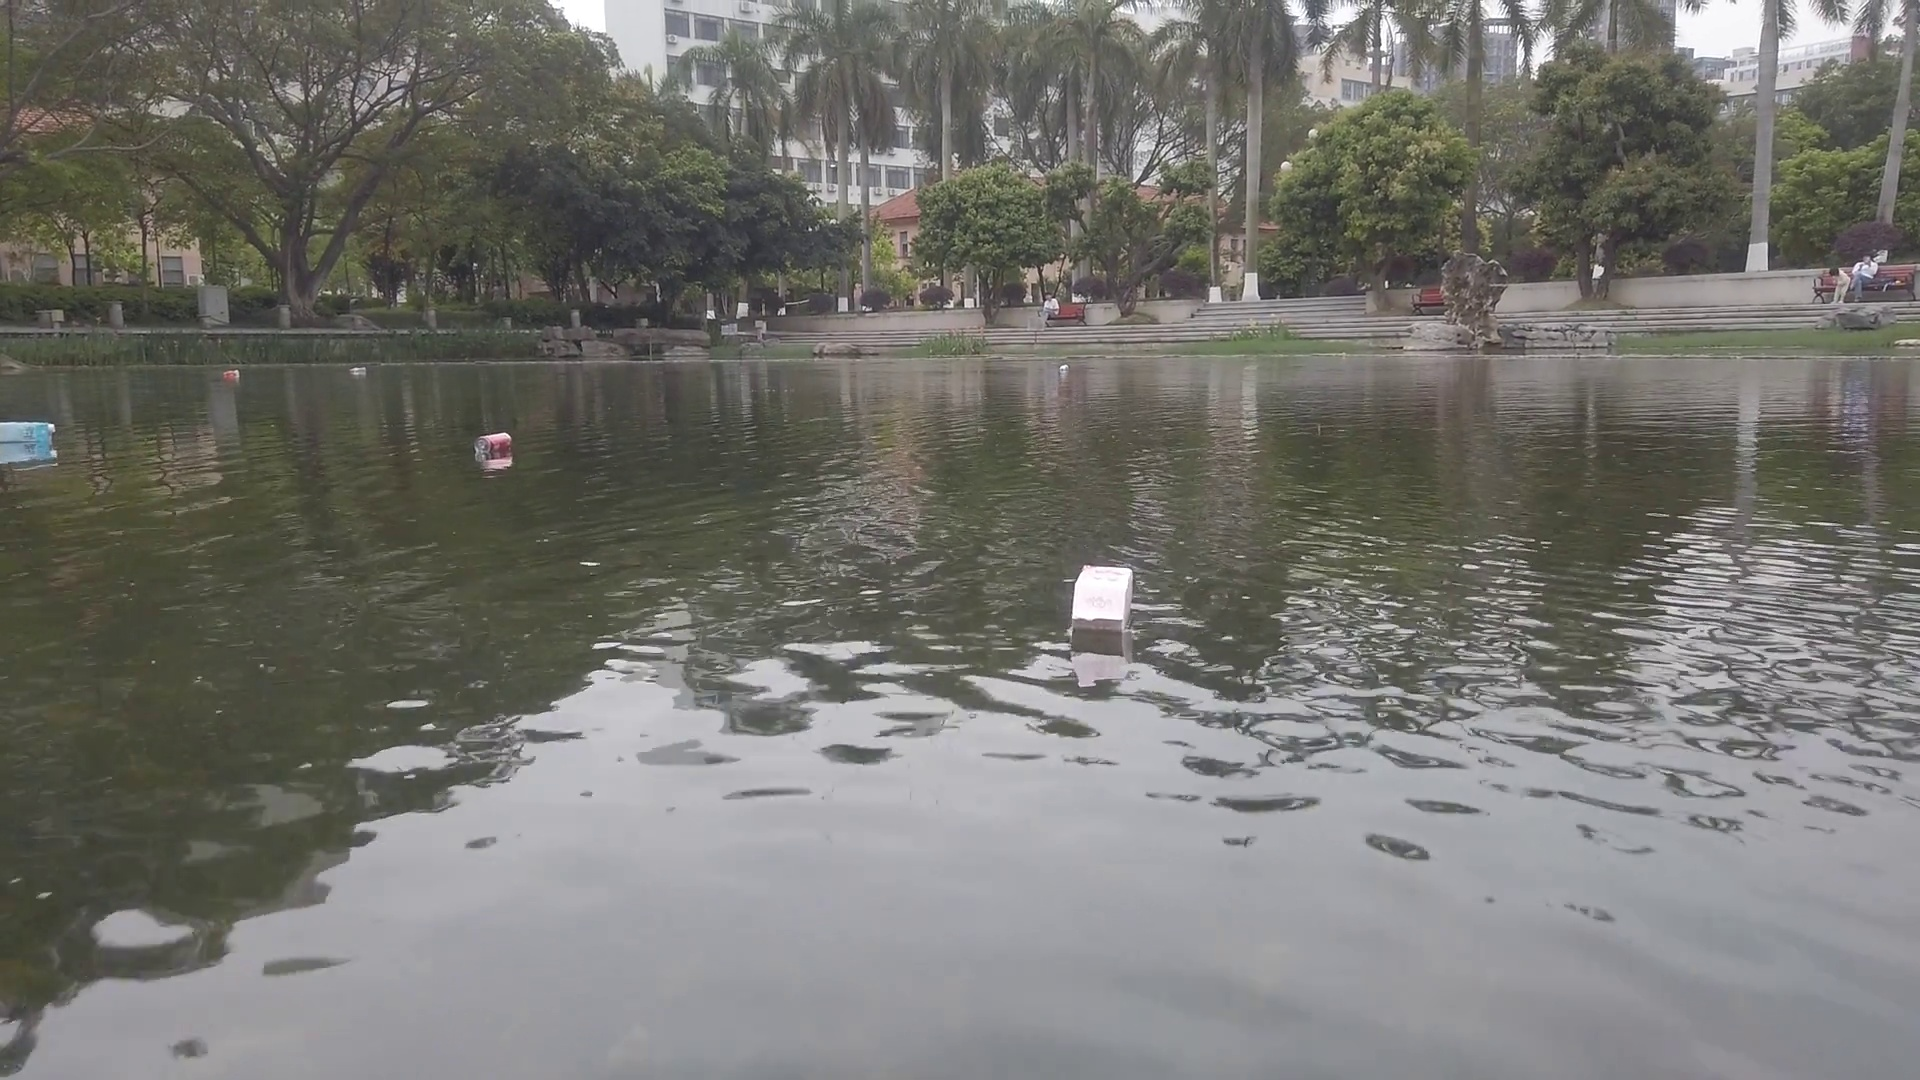bottle: (472, 427, 518, 463), (222, 369, 240, 378), (349, 367, 367, 375), (1058, 363, 1069, 372)
carton: (1069, 560, 1133, 642), (4, 415, 57, 459)
